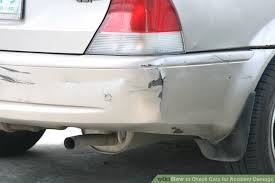Dent: (56, 76, 125, 97)
Scratch: (134, 64, 170, 102), (1, 62, 35, 88), (170, 124, 186, 135)
